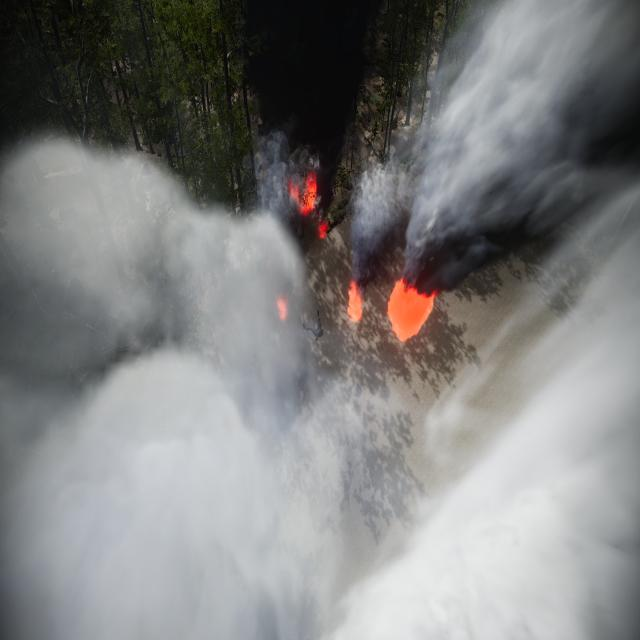Human: (304, 296, 326, 346)
